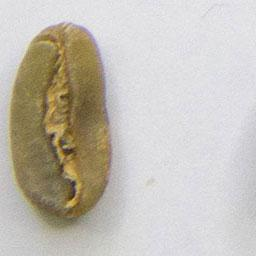longberry: (6, 19, 118, 221)
